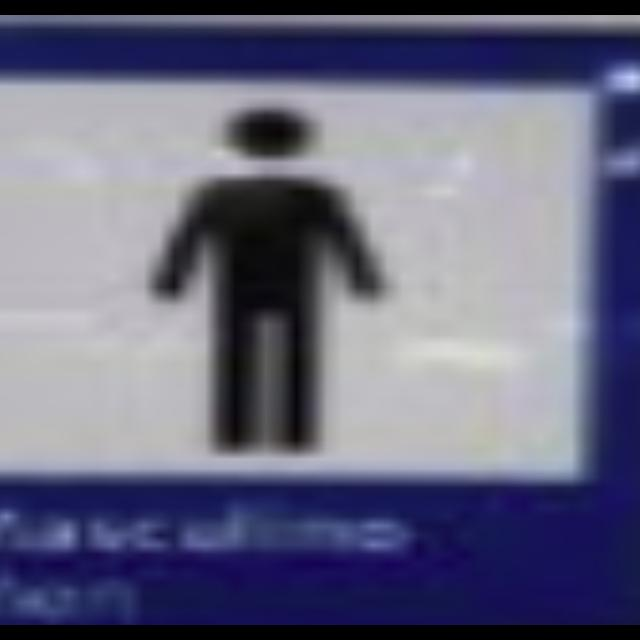wc nam: (0, 80, 595, 480)
